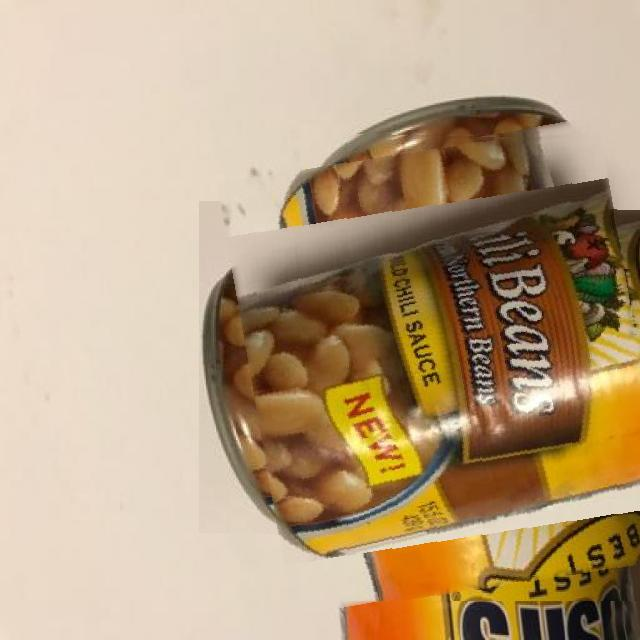recyclable: (234, 131, 640, 601)
